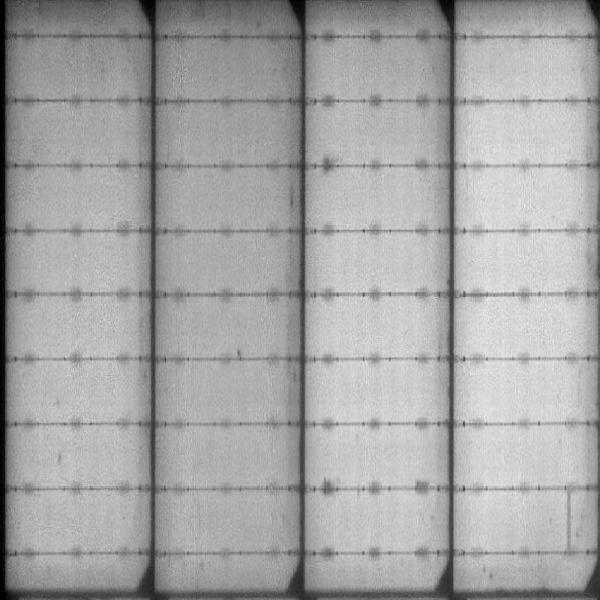scratch: (562, 487, 575, 553)
